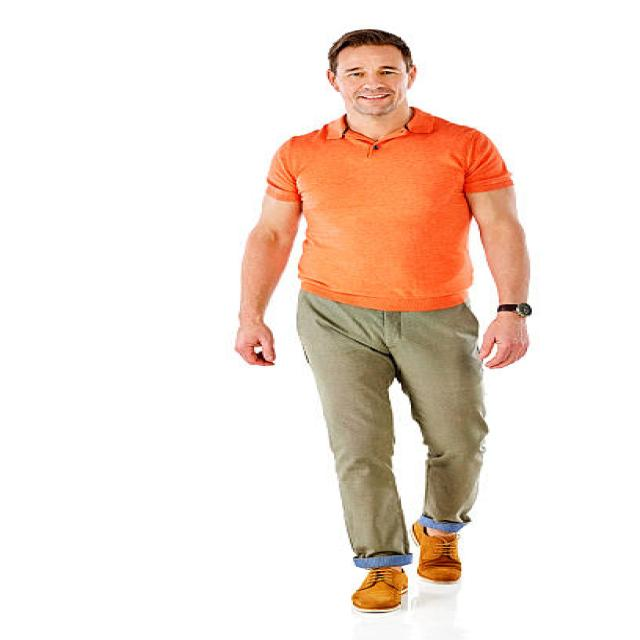Edited images: (211, 20, 560, 625)
